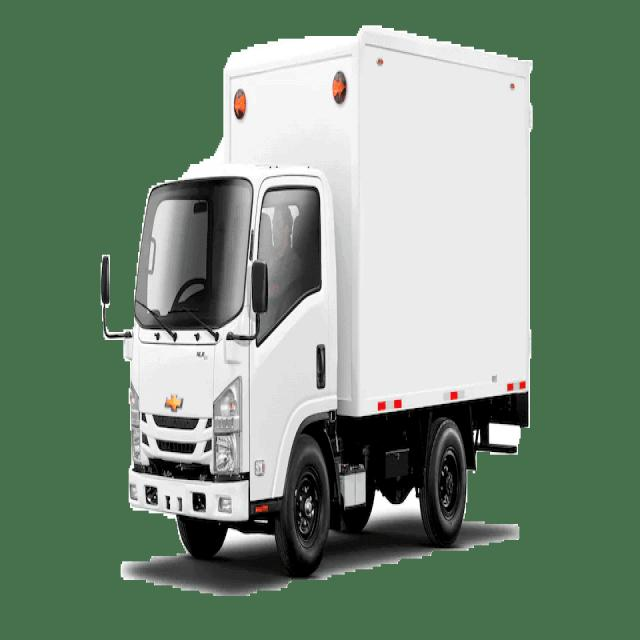TRUCK: (118, 28, 532, 573)
